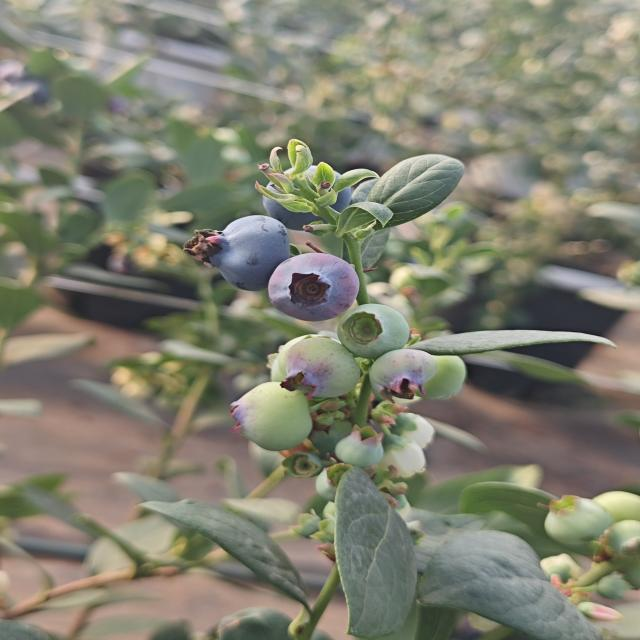ripe: (255, 157, 358, 236), (195, 218, 288, 284), (260, 256, 358, 317)
